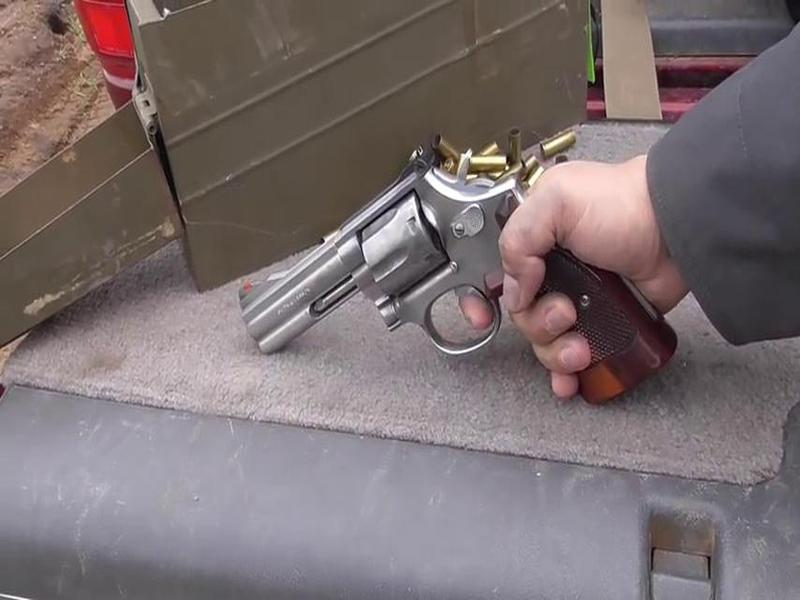Revolver: (228, 125, 695, 451)
